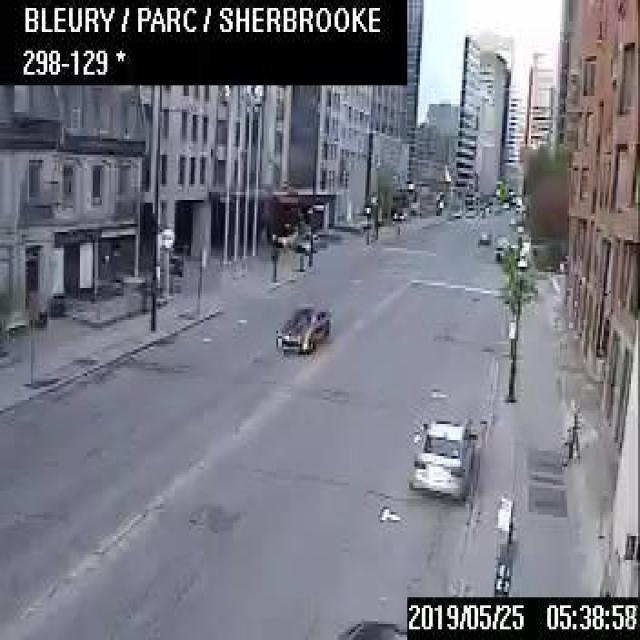vehicle: (407, 413, 475, 496), (273, 304, 329, 352), (336, 614, 402, 638), (272, 222, 297, 244), (294, 230, 318, 251)
